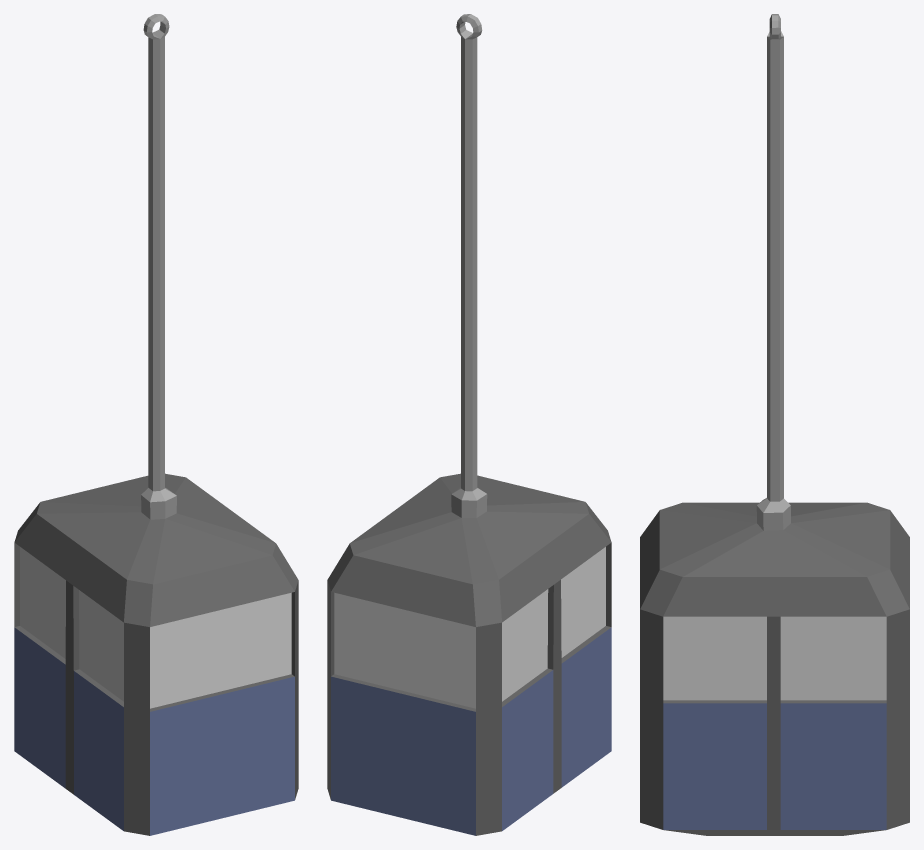
Rendered from skiLiftCart.fbx.
3 renders of one model, left to right at view 1: azimuth 30°, elevation 25°; view 2: azimuth 150°, elevation 25°; view 3: azimuth 270°, elevation 25°, orthographic. The views are drawn at different scales.
Visible parts, largest first — view 1: skiCart; view 2: skiCart; view 3: skiCart.
Part boxes in pixels (x1,y1,x2,y2): skiCart: (14, 14, 298, 835); skiCart: (327, 14, 611, 835); skiCart: (640, 14, 909, 835).
Size of the model in its own units: 1 by 4.25 by 1.31.
